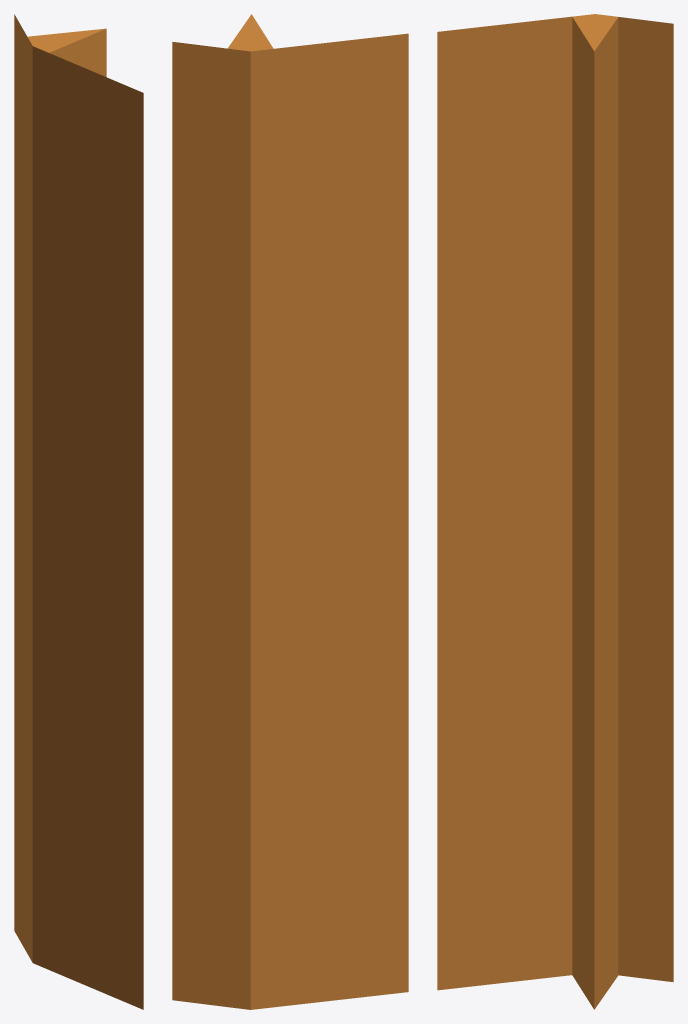
The picture shows the model from 3 angles, left to right: view 1: azimuth 90°, elevation 25°; view 2: azimuth 150°, elevation 25°; view 3: azimuth 330°, elevation 25°; orthographic projection. The views are drawn at different scales.
Parts seen in each view (by area): view 1: CORNER-A-28-p4; view 2: CORNER-A-28-p4; view 3: CORNER-A-28-p4.
Part boxes in pixels (left/top/right/bottom): CORNER-A-28-p4: left=14, top=14, right=143, bottom=1009; CORNER-A-28-p4: left=172, top=14, right=408, bottom=1009; CORNER-A-28-p4: left=437, top=14, right=673, bottom=1009.
Size of the model in its own units: 0.2058 by 1.12 by 0.1424.
